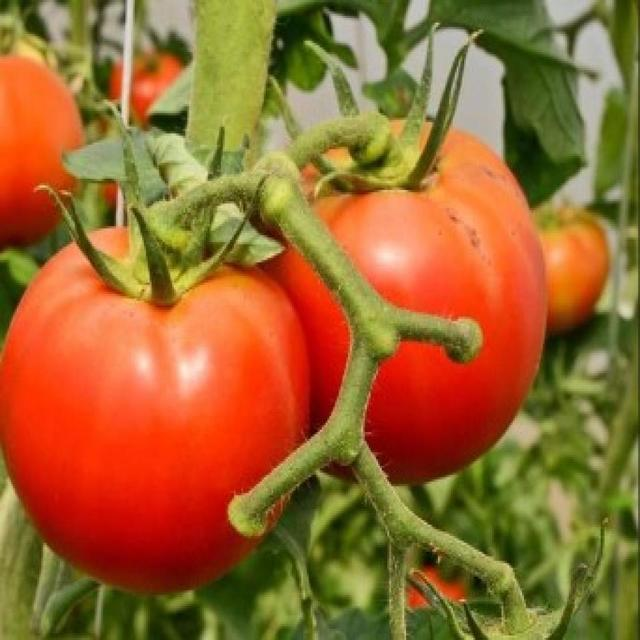Healthy Fruit: (30, 93, 283, 276)
